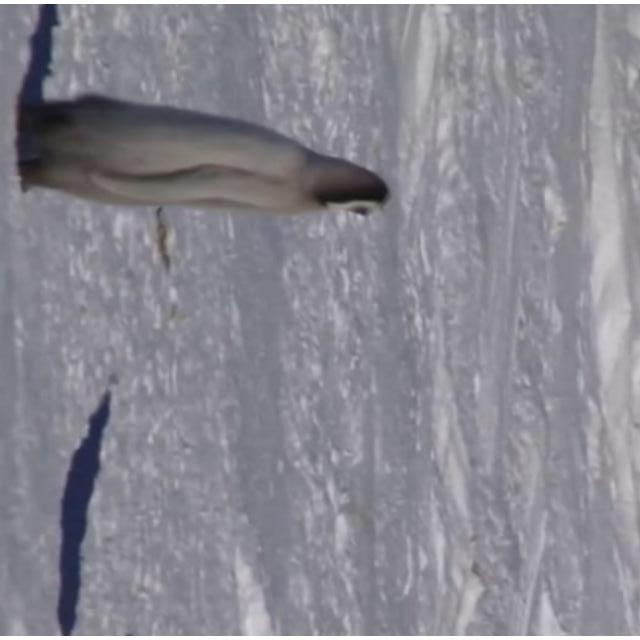penguin: (14, 96, 390, 220)
